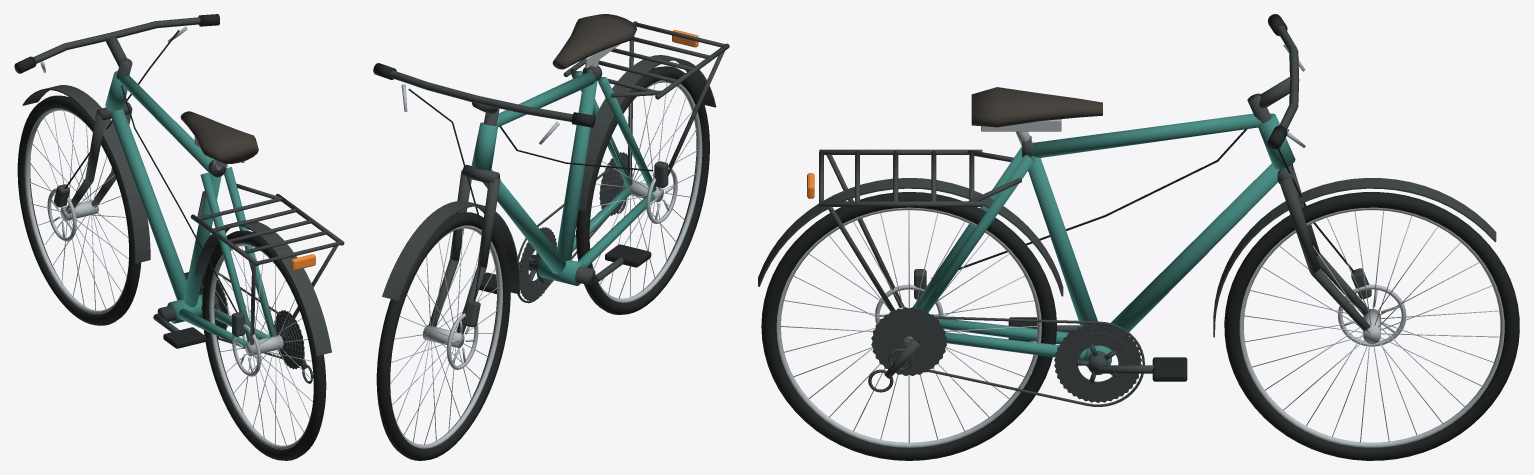
The model's file is bicycle-fitted.glb.
3 renders of one model, left to right at view 1: azimuth 30°, elevation 25°; view 2: azimuth 150°, elevation 25°; view 3: azimuth 270°, elevation 25°, orthographic. The views are drawn at different scales.
Visible parts, largest first — view 1: Fixed_FramePaint, Fixed_DarkMetal, FrontAssembly_DarkMetal, RearWheel_Rubber, FrontWheel_Rubber, FrontWheel_Aluminum, RearWheel_Aluminum, Fixed_Saddle, RearWheel_DarkMetal, Crank_DarkMetal, Pedal_L_Rubber, Fixed_Cable (+1 smaller); view 2: Fixed_FramePaint, FrontAssembly_DarkMetal, Fixed_DarkMetal, FrontWheel_Rubber, FrontWheel_Aluminum, RearWheel_Rubber, RearWheel_Aluminum, Fixed_Saddle, Crank_DarkMetal, RearWheel_DarkMetal, Pedal_L_Rubber, FrontAssembly_Rubber (+2 smaller); view 3: Fixed_FramePaint, FrontWheel_Rubber, RearWheel_Rubber, Fixed_DarkMetal, FrontWheel_Aluminum, FrontAssembly_DarkMetal, RearWheel_Aluminum, Crank_DarkMetal, Fixed_Saddle, RearWheel_DarkMetal, Pedal_R_Rubber, Fixed_Aluminum.
Boxes of the visible parts, bbox=[...] form: Fixed_FramePaint: bbox=[105, 70, 276, 348]; Fixed_DarkMetal: bbox=[190, 160, 344, 383]; FrontAssembly_DarkMetal: bbox=[22, 17, 200, 263]; RearWheel_Rubber: bbox=[202, 230, 326, 460]; FrontWheel_Rubber: bbox=[17, 95, 141, 325]; FrontWheel_Aluminum: bbox=[24, 107, 128, 314]; RearWheel_Aluminum: bbox=[209, 243, 313, 449]; Fixed_Saddle: bbox=[180, 111, 258, 163]; RearWheel_DarkMetal: bbox=[274, 310, 304, 369]; Crank_DarkMetal: bbox=[153, 273, 228, 337]; Pedal_L_Rubber: bbox=[163, 327, 206, 348]; Fixed_Cable: bbox=[121, 85, 237, 312]; Fixed_FramePaint: bbox=[471, 71, 656, 285]; FrontAssembly_DarkMetal: bbox=[382, 70, 572, 336]; Fixed_DarkMetal: bbox=[517, 21, 729, 303]; FrontWheel_Rubber: bbox=[376, 212, 510, 460]; FrontWheel_Aluminum: bbox=[390, 225, 502, 448]; RearWheel_Rubber: bbox=[576, 66, 709, 314]; RearWheel_Aluminum: bbox=[589, 80, 702, 302]; Fixed_Saddle: bbox=[552, 14, 636, 69]; Crank_DarkMetal: bbox=[518, 227, 623, 301]; RearWheel_DarkMetal: bbox=[599, 152, 632, 215]; Pedal_L_Rubber: bbox=[605, 244, 651, 267]; FrontAssembly_Rubber: bbox=[373, 63, 595, 127]; Fixed_FramePaint: bbox=[913, 113, 1295, 368]; FrontWheel_Rubber: bbox=[1224, 192, 1519, 460]; RearWheel_Rubber: bbox=[761, 192, 1056, 460]; Fixed_DarkMetal: bbox=[758, 136, 1144, 406]; FrontWheel_Aluminum: bbox=[1239, 207, 1504, 447]; FrontAssembly_DarkMetal: bbox=[1213, 25, 1496, 337]; RearWheel_Aluminum: bbox=[776, 207, 1041, 447]; Crank_DarkMetal: bbox=[1054, 324, 1154, 402]; Fixed_Saddle: bbox=[971, 87, 1102, 127]; RearWheel_DarkMetal: bbox=[871, 307, 946, 375]; Pedal_R_Rubber: bbox=[1152, 357, 1187, 381]; Fixed_Aluminum: bbox=[981, 119, 1061, 146].
Bounding box in the file's own units: 0.6924 × 1.01 × 1.8.
